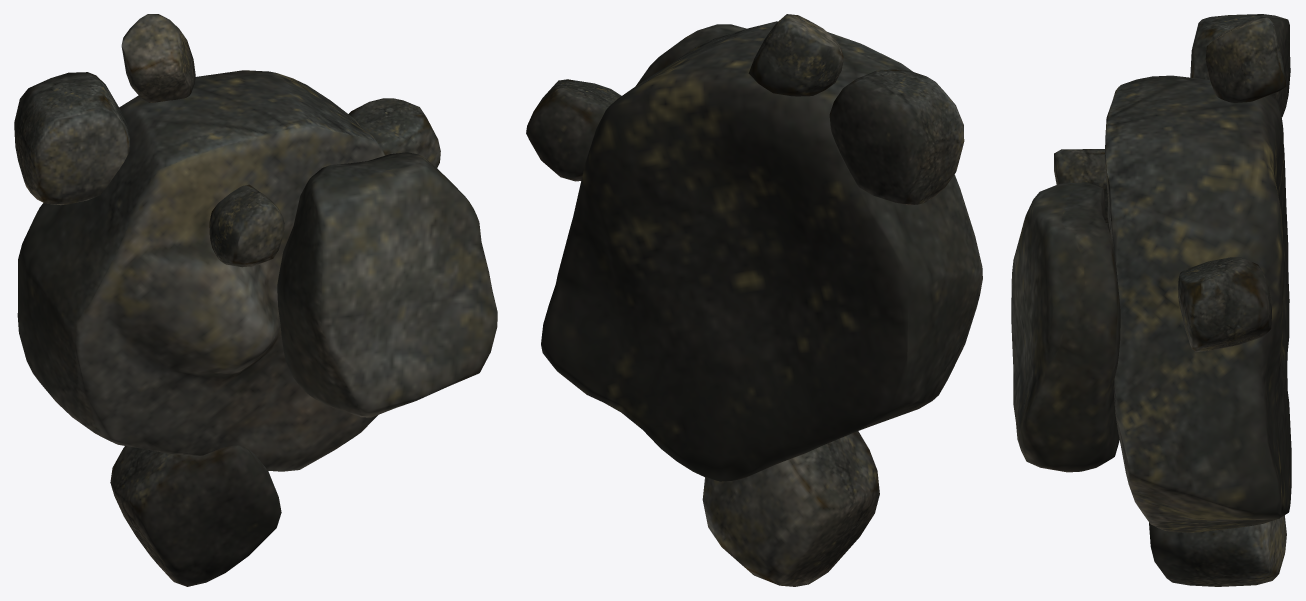
The model's file is rock_cluster_01.obj.
The picture shows the model from 3 angles, left to right: view 1: azimuth 30°, elevation 25°; view 2: azimuth 150°, elevation 25°; view 3: azimuth 270°, elevation 25°; orthographic projection. The views are drawn at different scales.
Parts seen in each view (by area): view 1: rock_cluster_01; view 2: rock_cluster_01; view 3: rock_cluster_01.
Part boxes in pixels (x1,y1,x2,y2): rock_cluster_01: (14, 14, 497, 586); rock_cluster_01: (526, 14, 982, 586); rock_cluster_01: (1011, 14, 1291, 586).
Bounding box in the file's own units: 5.29 × 7 × 3.14.
1 material, 1 textured.
